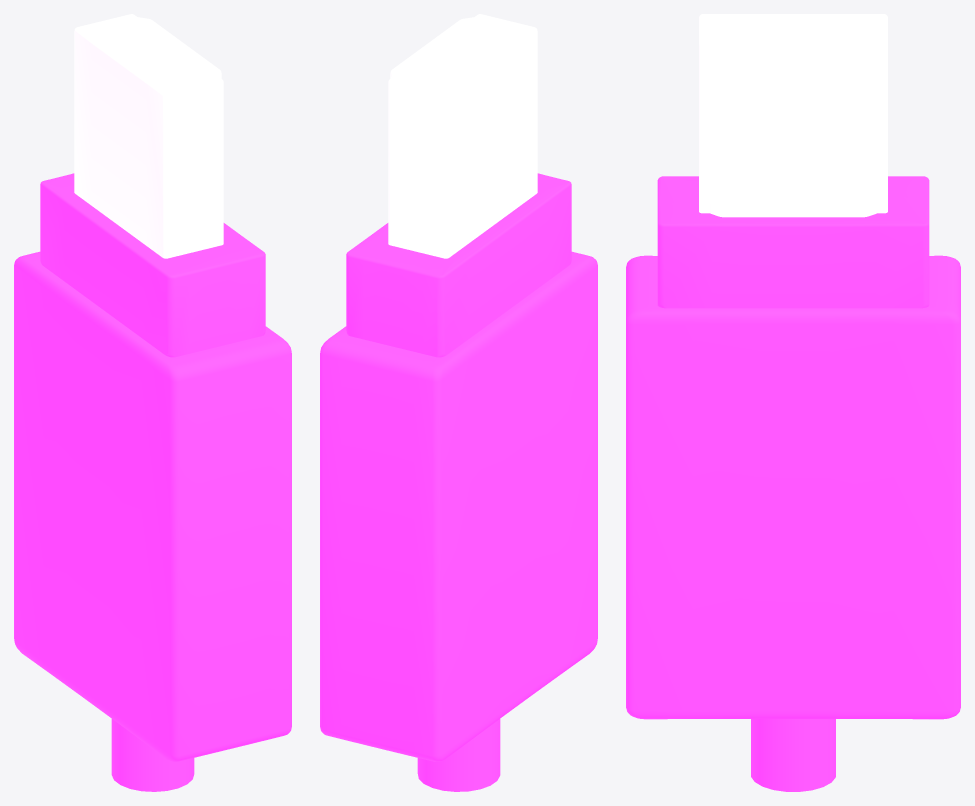
Rendered from thunderbolt port.fbx.
3 views of the same model, side by side, from view 1: azimuth 30°, elevation 25°; view 2: azimuth 150°, elevation 25°; view 3: azimuth 270°, elevation 25° (orthographic). The views are drawn at different scales.
Parts seen in each view (by area): view 1: Cube; view 2: Cube; view 3: Cube.
Boxes of the visible parts, x1,y1,x2,y2 form: Cube: (14, 14, 291, 791); Cube: (320, 14, 597, 791); Cube: (626, 14, 960, 791).
Bounding box in the file's own units: 11.88 × 67.8 × 27.65.
